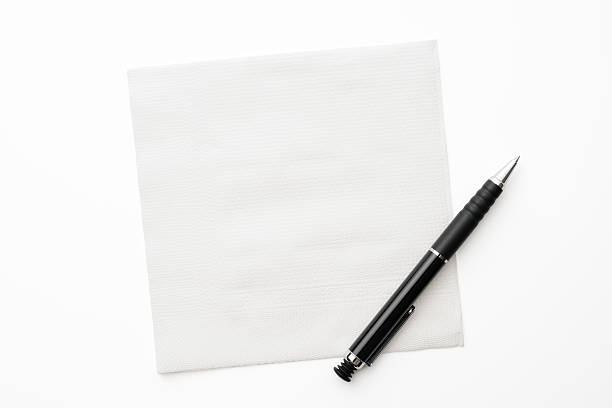pen: (331, 153, 528, 386)
